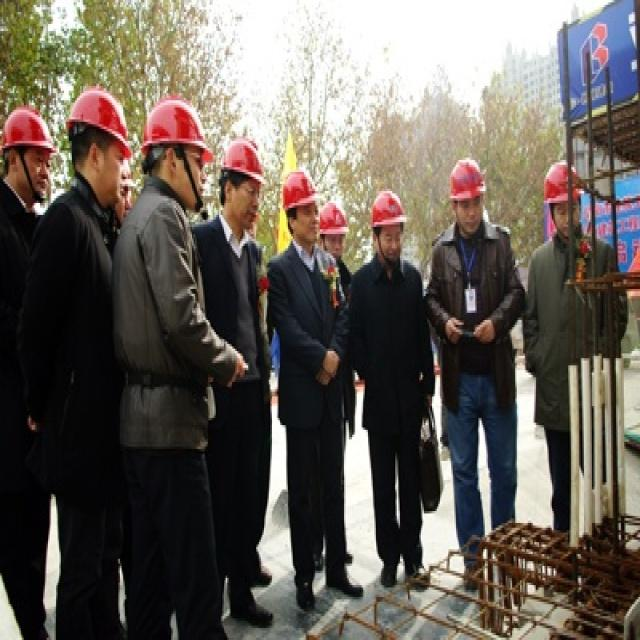helmet: (67, 115, 131, 277), (143, 124, 210, 277), (3, 143, 51, 273), (218, 182, 266, 310), (368, 249, 408, 355), (446, 211, 488, 309), (544, 213, 584, 315), (284, 223, 321, 324), (317, 268, 346, 351)
